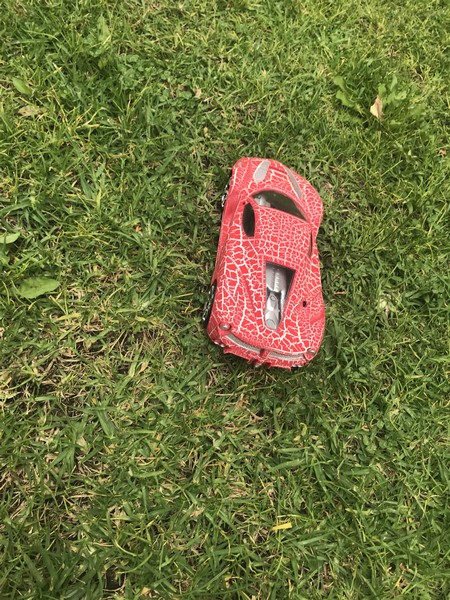RC: (199, 155, 329, 370)
